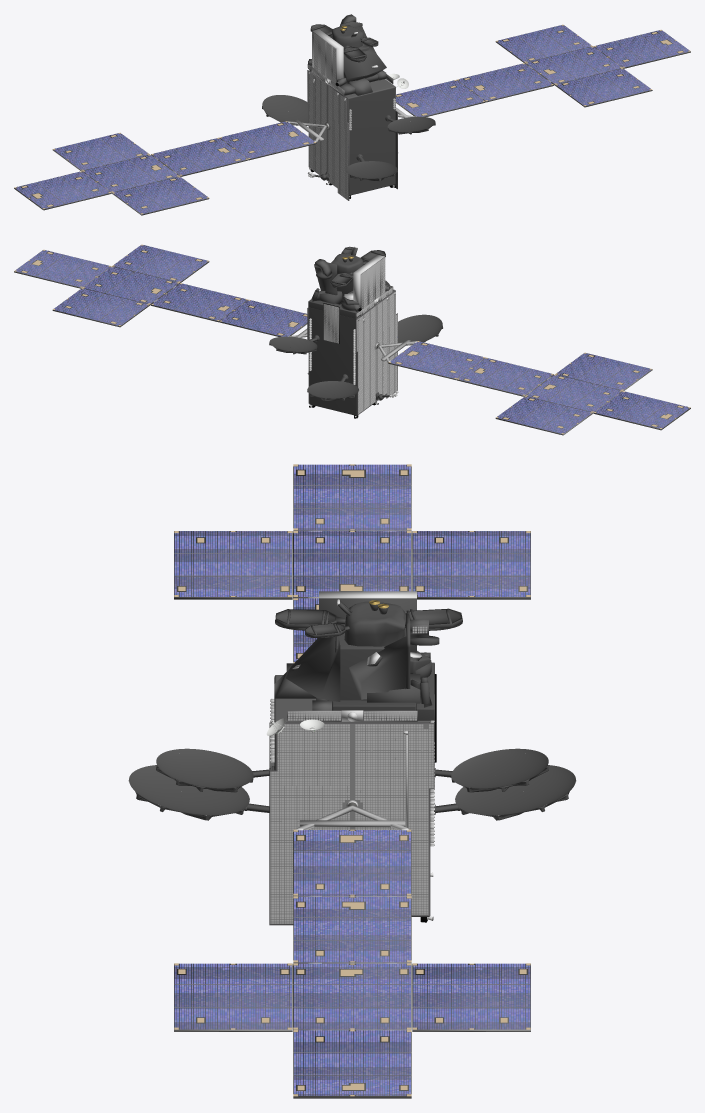
File: Space Systems Loral (SSL-1300).glb
The picture shows the model from 3 angles, top to bottom: view 1: azimuth 30°, elevation 25°; view 2: azimuth 150°, elevation 25°; view 3: azimuth 270°, elevation 25°; orthographic projection. The views are drawn at different scales.
Visible parts, largest first — view 1: Empty_Mesh; view 2: Empty_Mesh; view 3: Empty_Mesh.
Boxes of the visible parts, left/top/right/bottom form: Empty_Mesh: left=14, top=14, right=690, bottom=215; Empty_Mesh: left=14, top=244, right=690, bottom=435; Empty_Mesh: left=128, top=464, right=576, bottom=1098.
Size of the model in its own units: 268 by 61.27 by 80.37.
